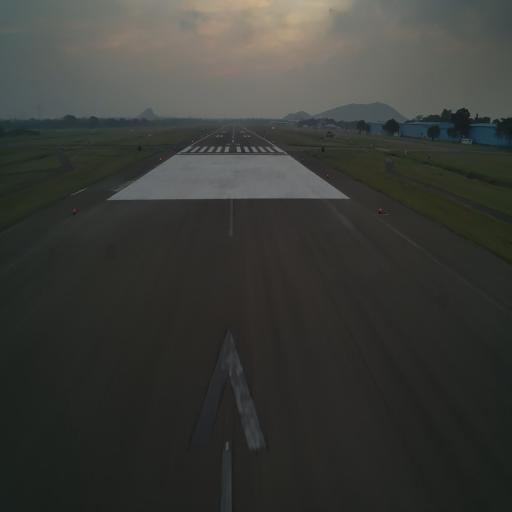on: (72, 204, 77, 218), (378, 206, 383, 214)
